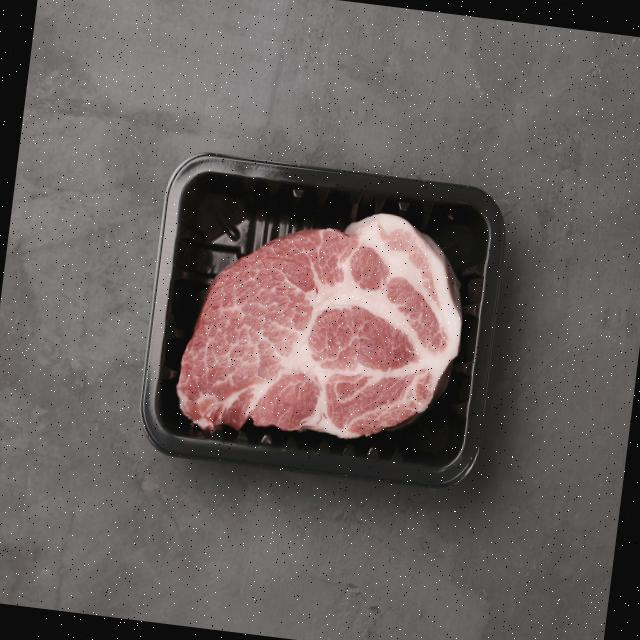meat: (123, 128, 527, 495)
